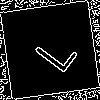L: (25, 25, 79, 76)
